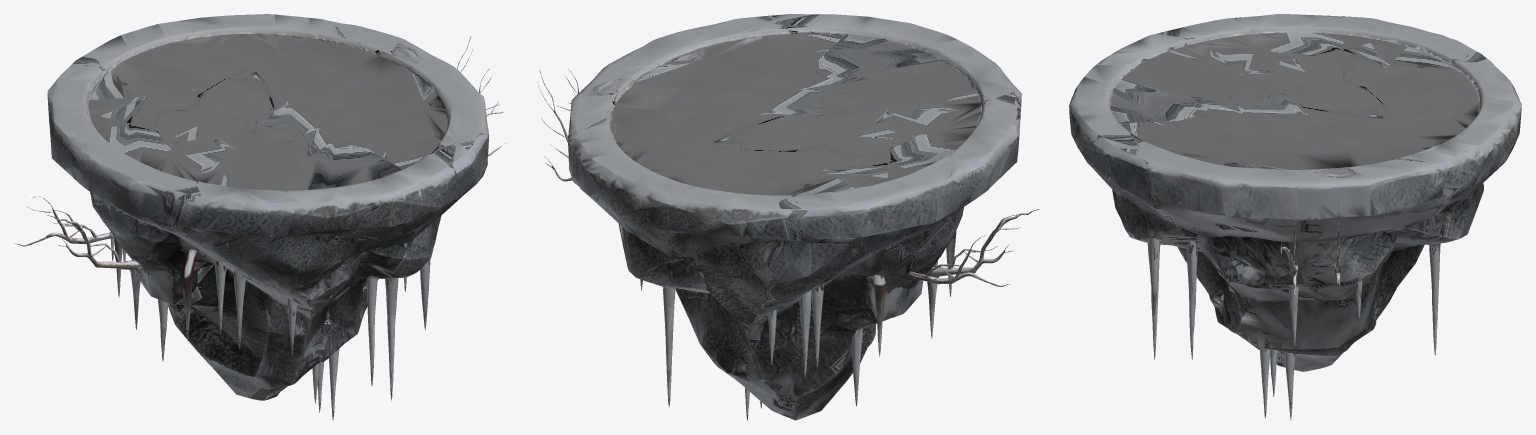
The model's file is rock-island.glb.
3 views of the same model, side by side, from view 1: azimuth 30°, elevation 25°; view 2: azimuth 150°, elevation 25°; view 3: azimuth 270°, elevation 25° (orthographic). The views are drawn at different scales.
Visible parts, largest first — view 1: Frosted Granite Ledge; view 2: Frosted Granite Ledge; view 3: Frosted Granite Ledge.
Boxes of the visible parts, <box> form: Frosted Granite Ledge: <box>14,14,506,420</box>; Frosted Granite Ledge: <box>537,14,1039,420</box>; Frosted Granite Ledge: <box>1069,14,1521,420</box>.
Bounding box in the file's own units: 1.87 × 1.2 × 1.63.
1 material, 1 textured.
